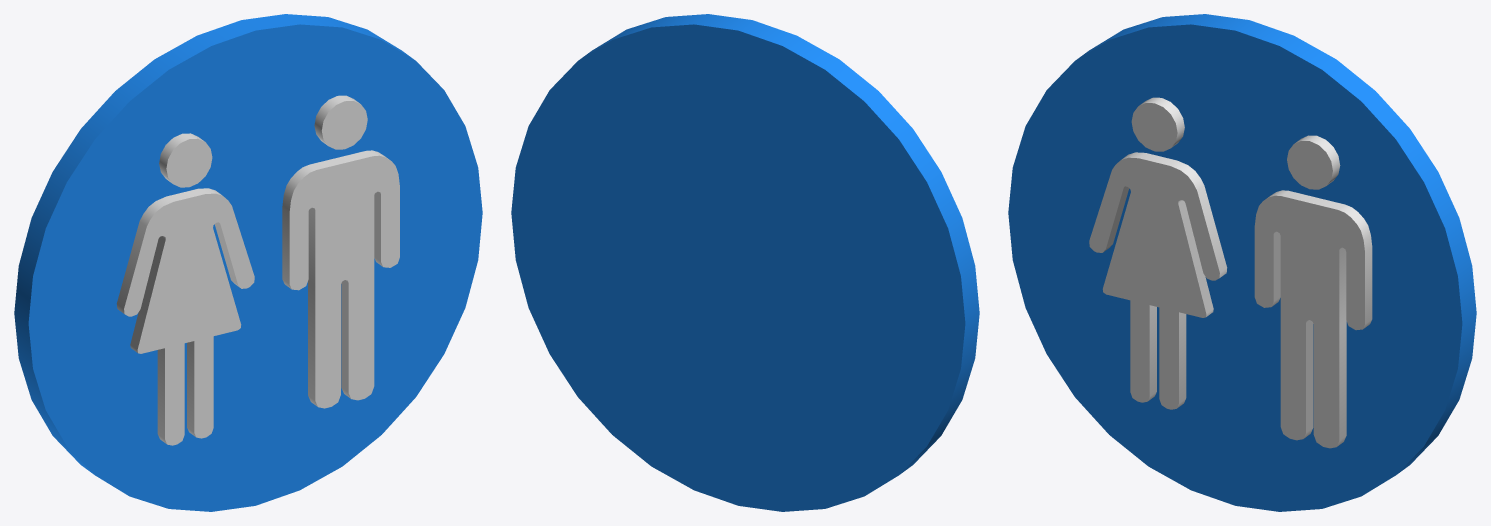
File: GoogleHacathon_WC_v0_111623.fbx
3 renders of one model, left to right at view 1: azimuth 30°, elevation 25°; view 2: azimuth 150°, elevation 25°; view 3: azimuth 330°, elevation 25°, orthographic.
Parts seen in each view (by area): view 1: WC; view 2: WC; view 3: WC.
Part boxes in pixels (x1,y1,x2,y2): WC: (14,14,482,511); WC: (511,14,979,511); WC: (1008,14,1476,511).
Bounding box in the file's own units: 36 × 36 × 2.96.
